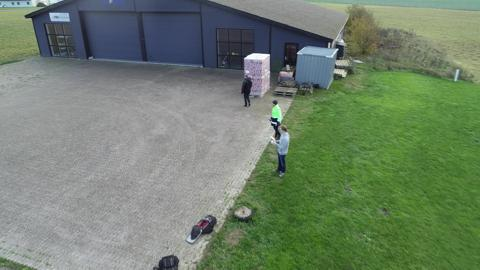RockwoolPallet: (243, 52, 272, 98)
